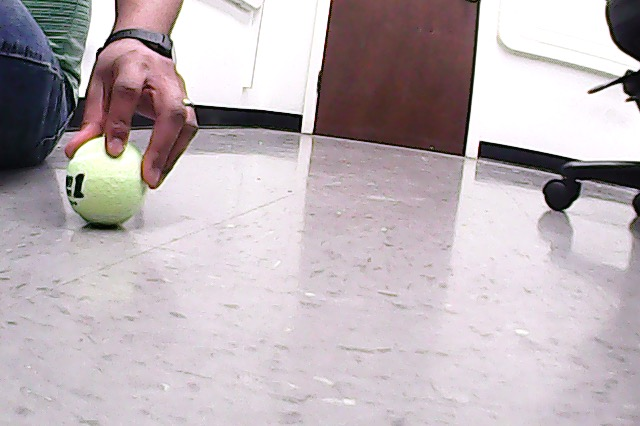ball: (64, 135, 150, 230)
